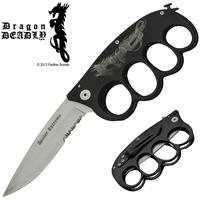knife: (2, 7, 174, 199)
